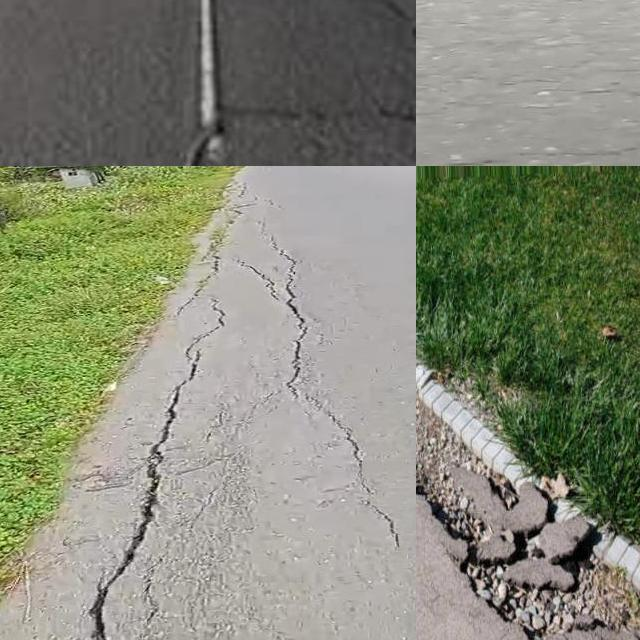Melintang: (221, 96, 416, 145)
Memanjang: (73, 295, 237, 640), (272, 246, 409, 551), (178, 0, 225, 166)
Pinggir: (416, 341, 640, 640)
